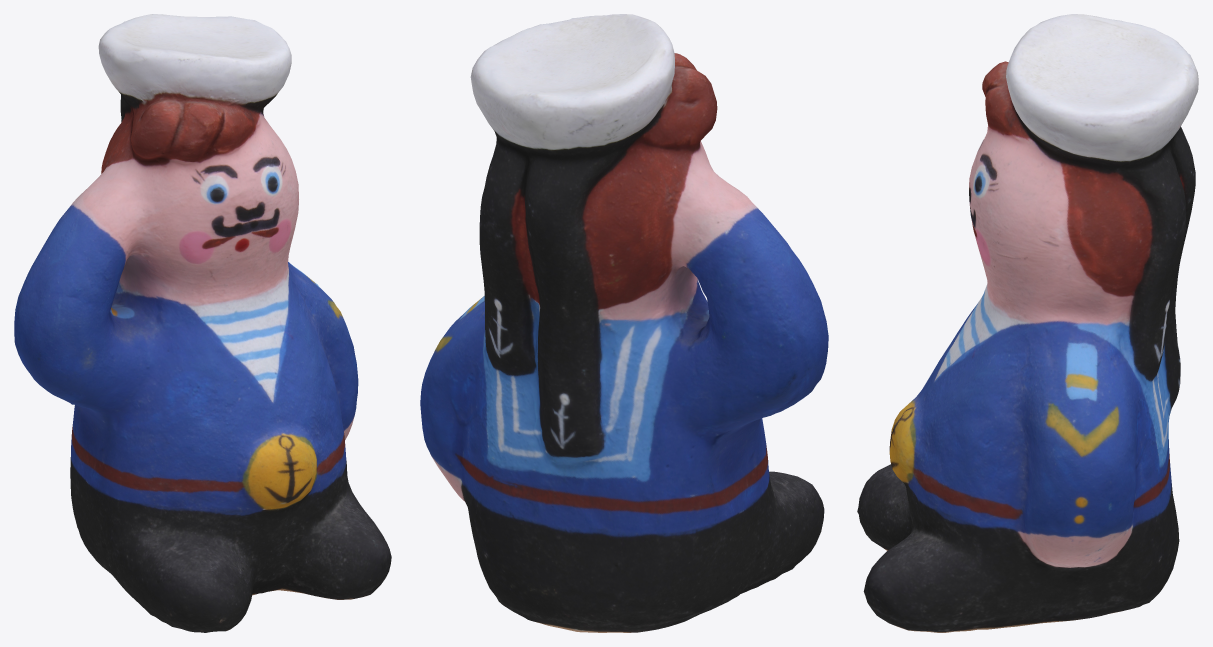
The picture shows the model from 3 angles, left to right: view 1: azimuth 30°, elevation 25°; view 2: azimuth 150°, elevation 25°; view 3: azimuth 270°, elevation 25°; orthographic projection. The views are drawn at different scales.
Parts seen in each view (by area): view 1: Model; view 2: Model; view 3: Model.
Boxes of the visible parts, x1,y1,x2,y2 form: Model: (14, 14, 391, 632); Model: (420, 14, 828, 632); Model: (857, 14, 1198, 632).
Bounding box in the file's own units: 0.1974 × 0.2891 × 0.1642.
Materials: 1 (1 with a texture image).
